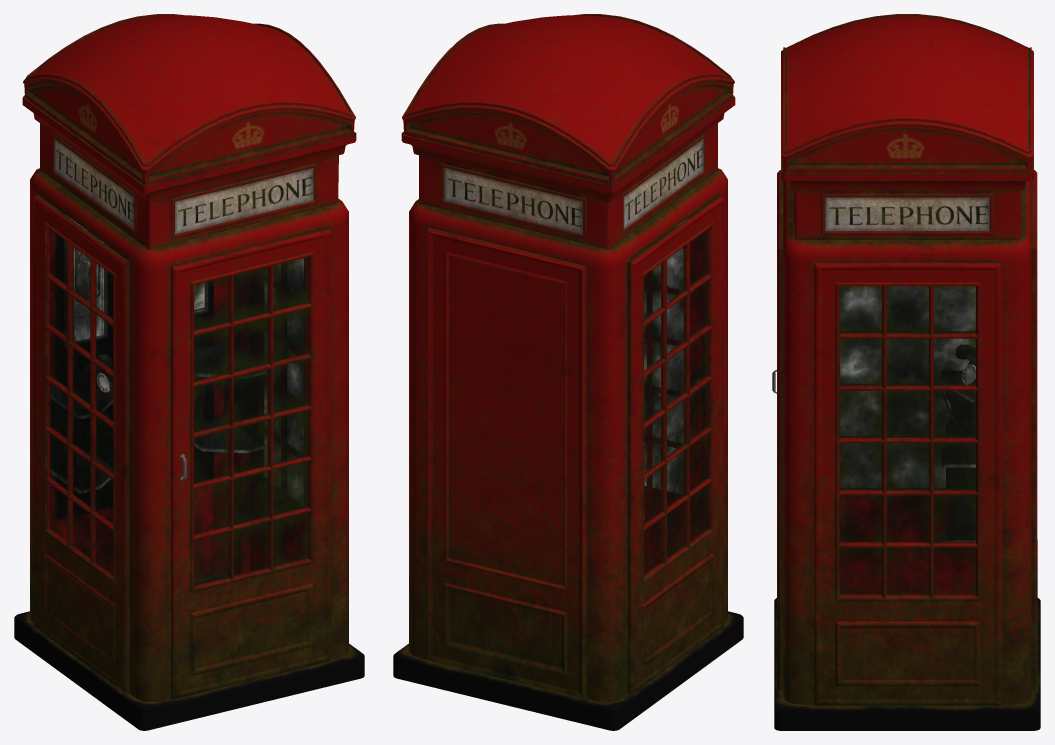
Rendered from london_phone.glb.
3 renders of one model, left to right at view 1: azimuth 30°, elevation 25°; view 2: azimuth 150°, elevation 25°; view 3: azimuth 270°, elevation 25°, orthographic. The views are drawn at different scales.
Visible parts, largest first — view 1: polySurface97, pPlane14, polySurface124, polySurface102, polySurface126, polySurface98, polySurface20, pCube31, polySurface125, pCube23, polySurface130; view 2: polySurface20, polySurface97, polySurface102, polySurface126, pPlane14, polySurface98, polySurface124; view 3: polySurface97, polySurface125, pPlane14, polySurface102, polySurface126, polySurface98, pCube31, polySurface124, polySurface20, polySurface130.
Boxes of the visible parts, <box> form: polySurface97: <box>22,14,356,249</box>; pPlane14: <box>49,229,307,585</box>; polySurface124: <box>171,228,330,699</box>; polySurface102: <box>30,168,348,702</box>; polySurface126: <box>33,195,129,694</box>; polySurface98: <box>14,572,364,730</box>; polySurface20: <box>55,207,213,579</box>; pCube31: <box>50,343,265,493</box>; polySurface125: <box>250,258,307,571</box>; pCube23: <box>64,215,208,347</box>; polySurface130: <box>74,354,113,436</box>; polySurface20: <box>427,227,586,698</box>; polySurface97: <box>401,14,735,249</box>; polySurface102: <box>409,168,727,702</box>; polySurface126: <box>628,195,723,694</box>; pPlane14: <box>628,219,707,575</box>; polySurface98: <box>393,611,743,730</box>; polySurface124: <box>644,208,701,574</box>; polySurface97: <box>781,14,1033,240</box>; polySurface125: <box>814,262,1001,705</box>; pPlane14: <box>840,286,975,594</box>; polySurface102: <box>783,180,1031,704</box>; polySurface126: <box>840,332,975,594</box>; polySurface98: <box>774,598,1040,730</box>; pCube31: <box>941,371,975,541</box>; polySurface124: <box>777,170,783,691</box>; polySurface20: <box>1031,170,1037,690</box>; polySurface130: <box>943,344,975,434</box>.
Bounding box in the file's own units: 0.115 × 0.3033 × 0.1158.
Materials: 1 (1 with a texture image).
